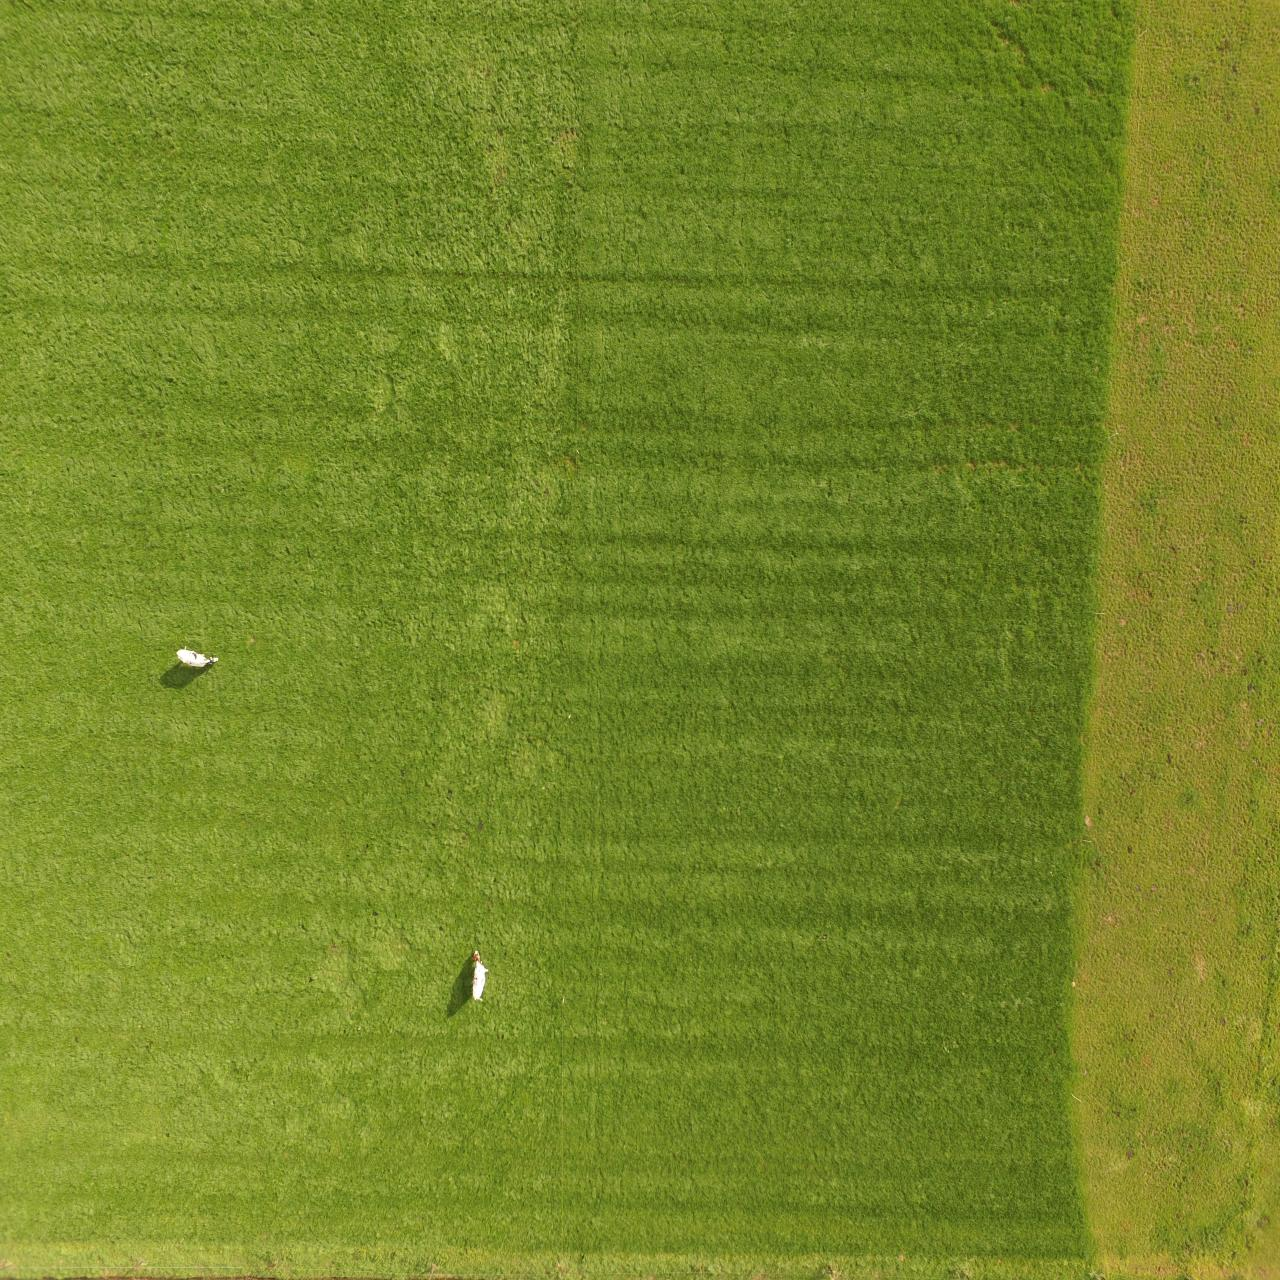cow: (169, 634, 217, 680), (464, 948, 492, 1008)
